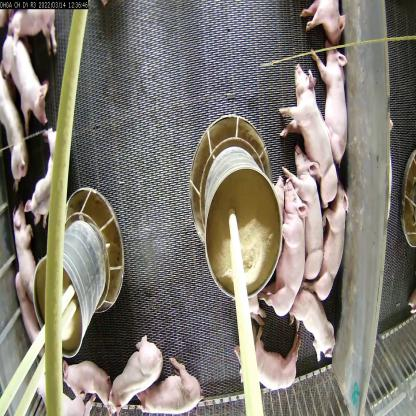Pig: (278, 57, 341, 216), (274, 174, 312, 326), (3, 25, 53, 133), (288, 132, 323, 274), (310, 37, 348, 158), (139, 353, 211, 415), (242, 327, 305, 395), (324, 175, 353, 310), (292, 281, 341, 360), (62, 349, 117, 415), (115, 333, 158, 412), (11, 201, 42, 306)
